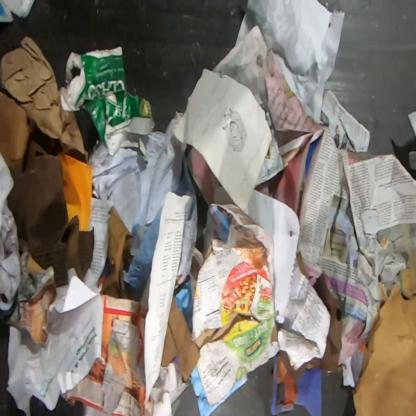cardboard: (191, 202, 280, 406), (7, 137, 95, 289), (64, 275, 156, 415), (59, 45, 156, 164), (351, 280, 415, 415), (161, 295, 199, 382), (100, 205, 134, 298), (0, 90, 31, 169)
